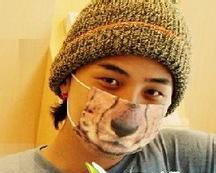OK: (72, 67, 169, 153)
